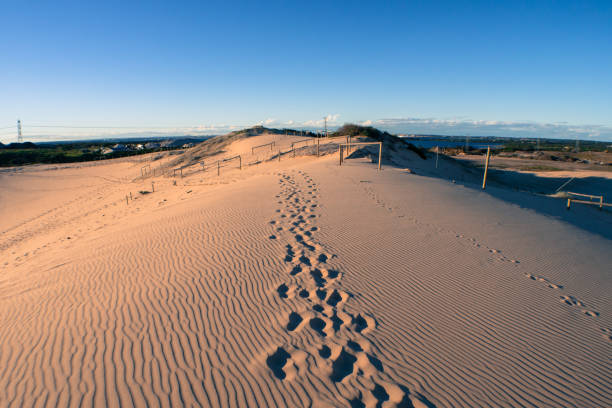human_foot_print: (266, 171, 432, 406)
